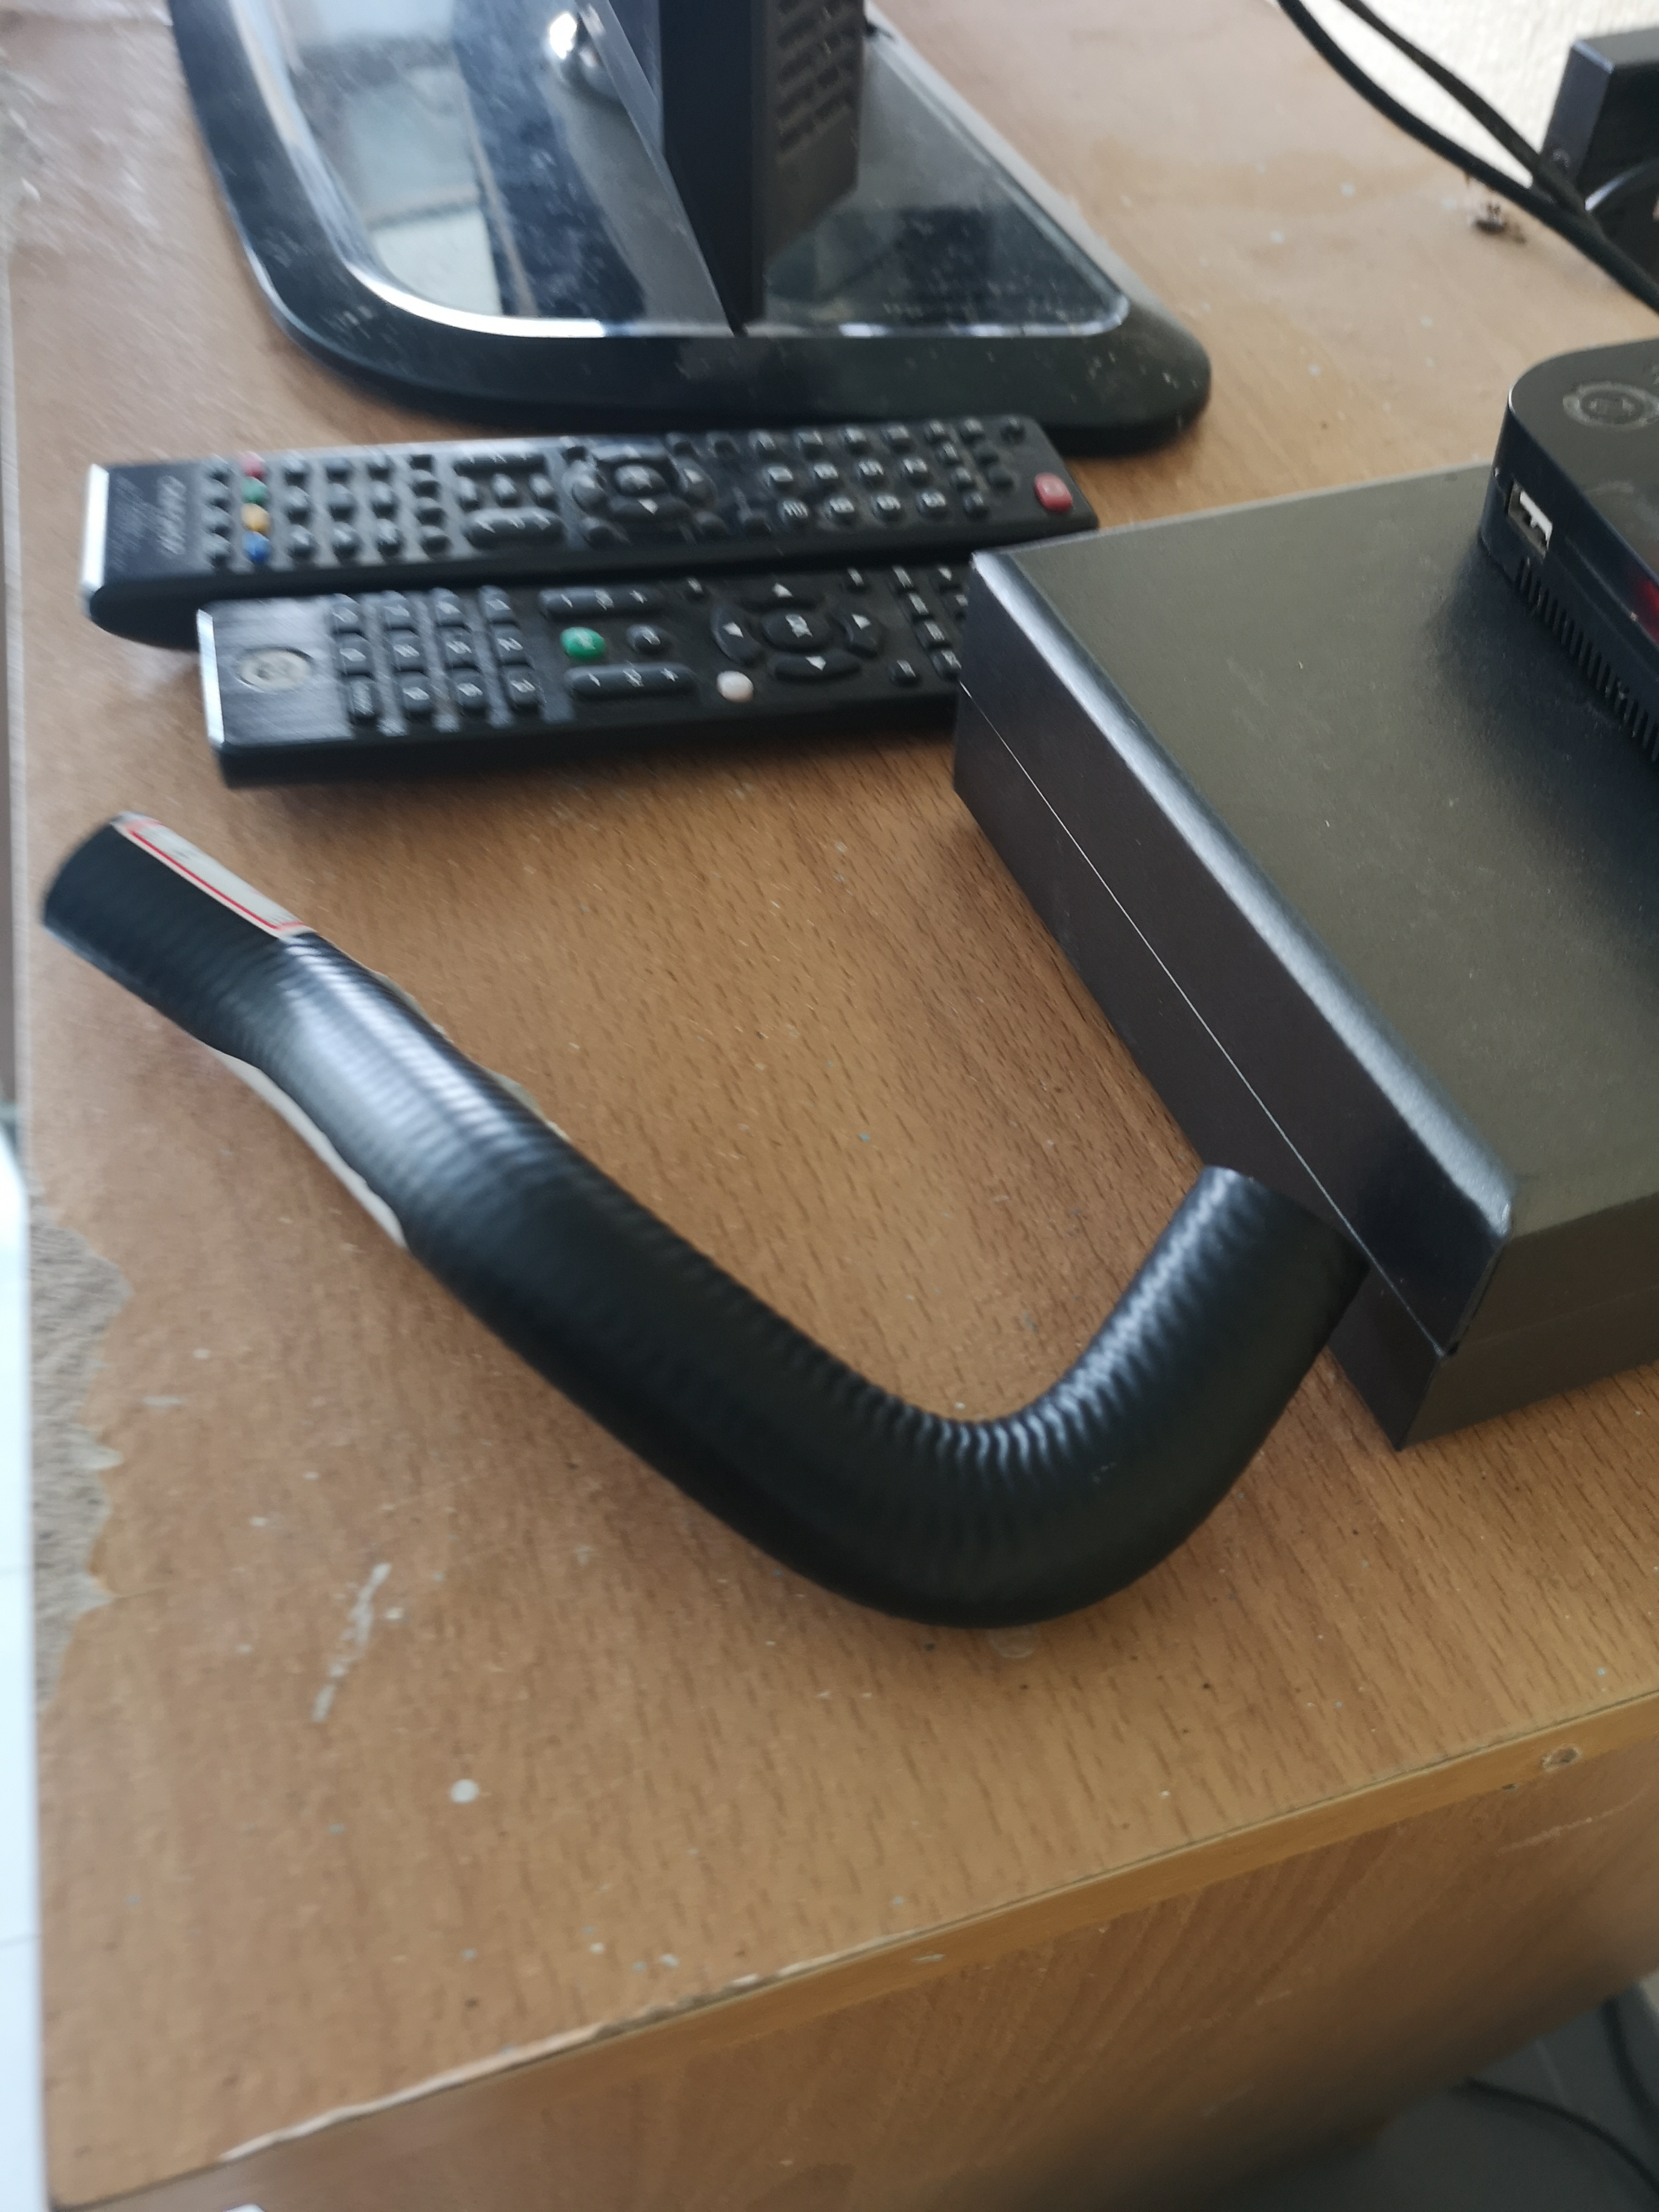ท่อยางน้ำมันเลี้ยงเทอร์โบ: (52, 730, 1382, 1670)
